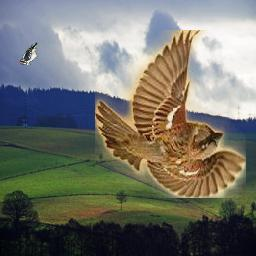Sparrow: (96, 30, 247, 198)
Woodpecker: (20, 41, 39, 65)
